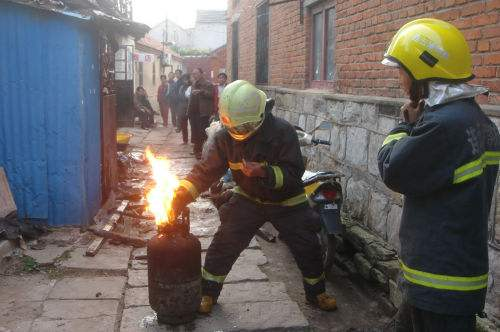fire: (138, 149, 175, 227)
